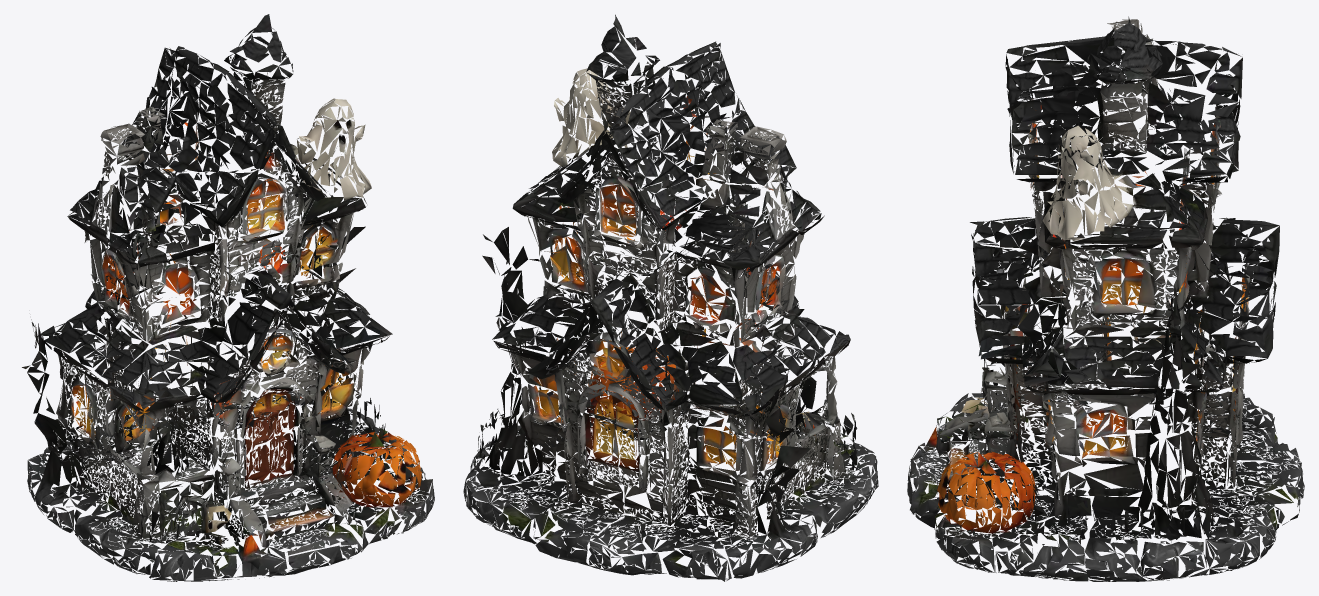
Rendered from house-horror.glb.
3 renders of one model, left to right at view 1: azimuth 30°, elevation 25°; view 2: azimuth 150°, elevation 25°; view 3: azimuth 270°, elevation 25°, orthographic. The views are drawn at different scales.
Visible parts, largest first — view 1: tripo_node_39b889d4-3b5e-4d24-b80d-9b3680c91e10; view 2: tripo_node_39b889d4-3b5e-4d24-b80d-9b3680c91e10; view 3: tripo_node_39b889d4-3b5e-4d24-b80d-9b3680c91e10.
Part boxes in pixels (x1,y1,x2,y2): tripo_node_39b889d4-3b5e-4d24-b80d-9b3680c91e10: (22,14,434,581); tripo_node_39b889d4-3b5e-4d24-b80d-9b3680c91e10: (463,14,878,581); tripo_node_39b889d4-3b5e-4d24-b80d-9b3680c91e10: (907,16,1304,581).
Size of the model in its own units: 4.35 by 5.38 by 3.8.
1 material, 1 textured.
